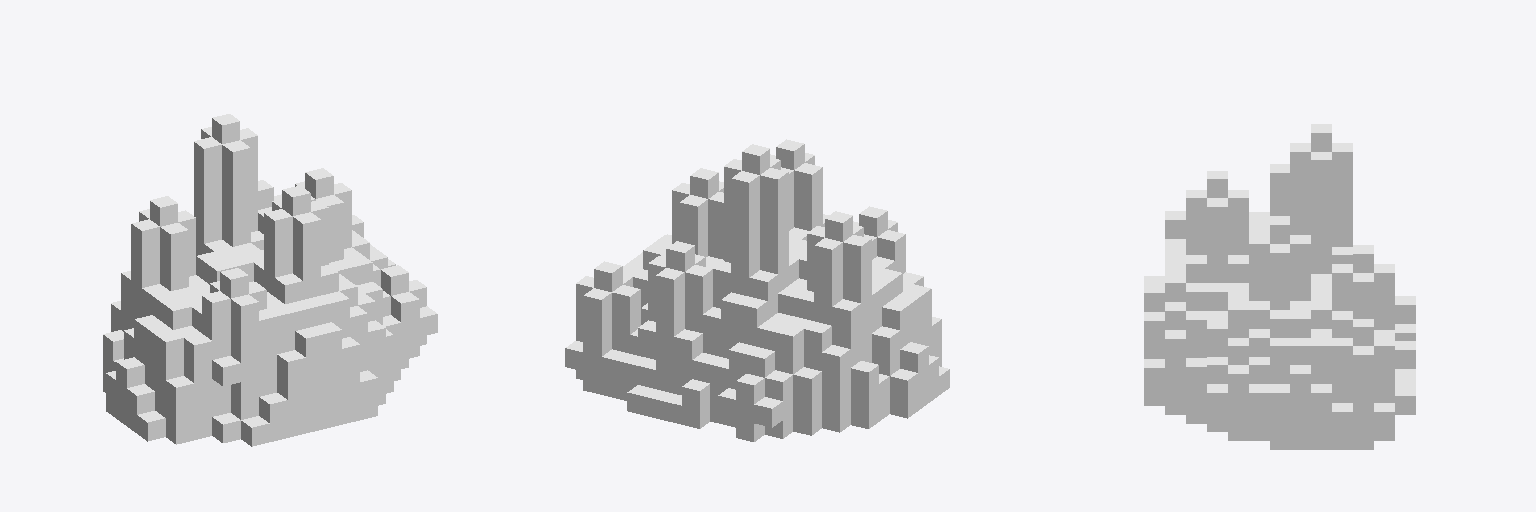
Rendered from OpalDeposit_L.obj.
3 renders of one model, left to right at view 1: azimuth 30°, elevation 25°; view 2: azimuth 150°, elevation 25°; view 3: azimuth 270°, elevation 25°, orthographic.
Visible parts, largest first — view 1: OpalDeposit_L; view 2: OpalDeposit_L; view 3: OpalDeposit_L.
Part boxes in pixels (x1,y1,x2,y2): OpalDeposit_L: (103,114,437,446); OpalDeposit_L: (565,139,949,441); OpalDeposit_L: (1144,124,1415,449).
Bounding box in the file's own units: 1.6 × 1.3 × 1.3.